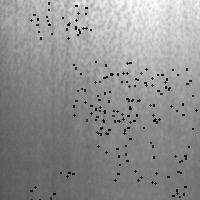pitted_surface: (2, 3, 198, 128), (94, 72, 154, 132), (143, 68, 200, 128), (73, 61, 129, 120), (97, 127, 155, 182), (30, 0, 90, 37), (167, 146, 200, 200), (18, 172, 73, 200)
